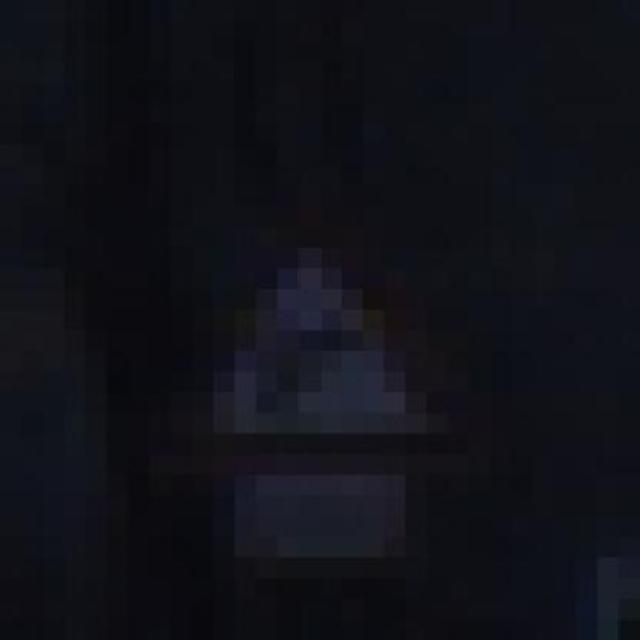Dangerous Rright Curve Ahead: (128, 186, 469, 474)
